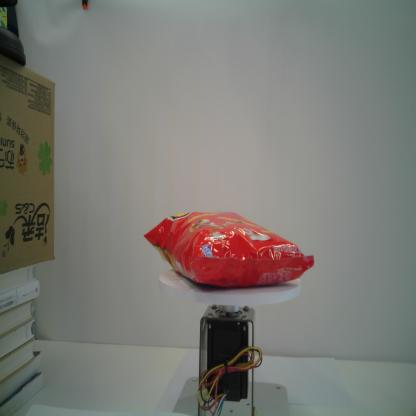Puffed Food: (143, 209, 315, 290)
